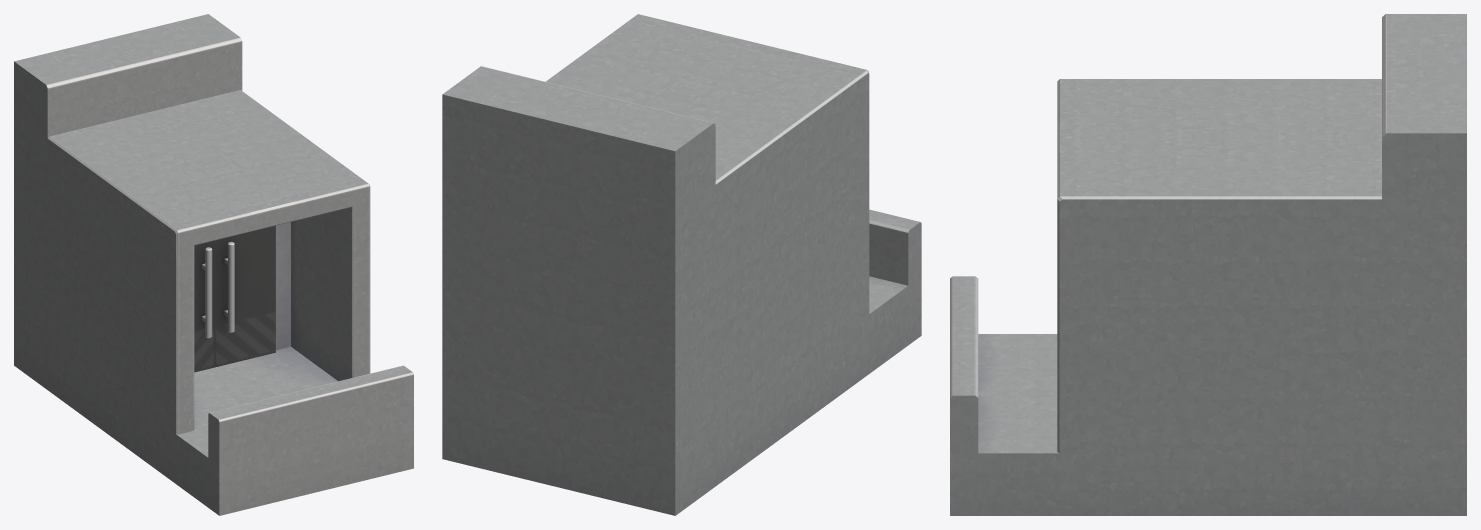
Rendered from tribune_exit_audience.fbx.
The picture shows the model from 3 angles, left to right: view 1: azimuth 30°, elevation 25°; view 2: azimuth 150°, elevation 25°; view 3: azimuth 270°, elevation 25°; orthographic projection. The views are drawn at different scales.
Visible parts, largest first — view 1: tribune_exit_audience, tribune_exit_audience_door_R, tribune_exit_audience_door_L; view 2: tribune_exit_audience; view 3: tribune_exit_audience.
Part boxes in pixels (left/top/right/bottom): tribune_exit_audience: left=14, top=14, right=413, bottom=515; tribune_exit_audience_door_R: left=214, top=225, right=275, bottom=367; tribune_exit_audience_door_L: left=194, top=241, right=214, bottom=372; tribune_exit_audience: left=442, top=14, right=921, bottom=515; tribune_exit_audience: left=950, top=14, right=1466, bottom=515.
Bounding box in the file's own units: 200 × 299 × 366.
